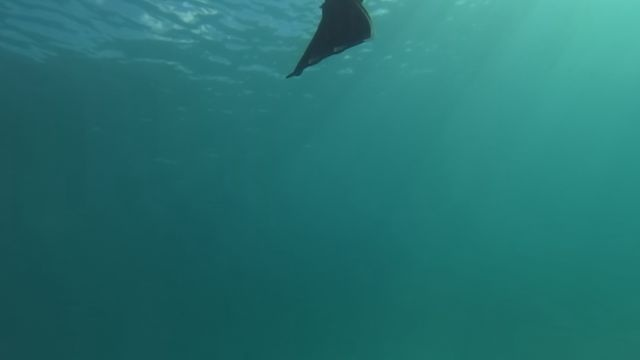Diver: (256, 0, 395, 89)
